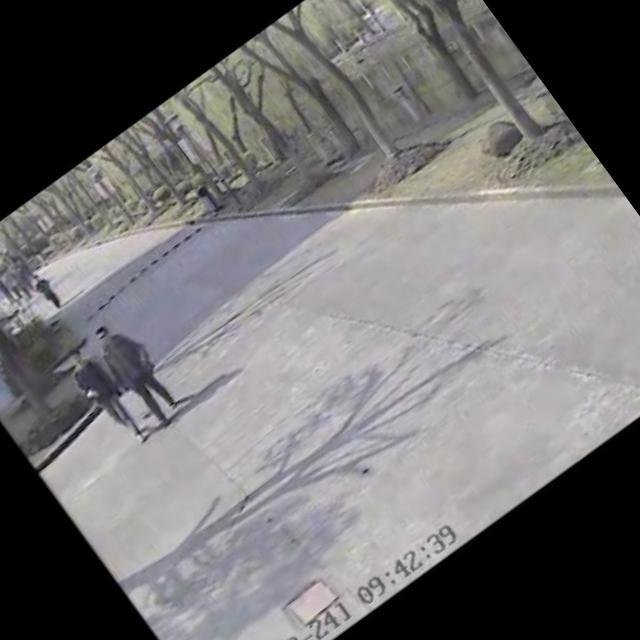person: (80, 306, 194, 436), (52, 336, 156, 458), (22, 262, 70, 318)
